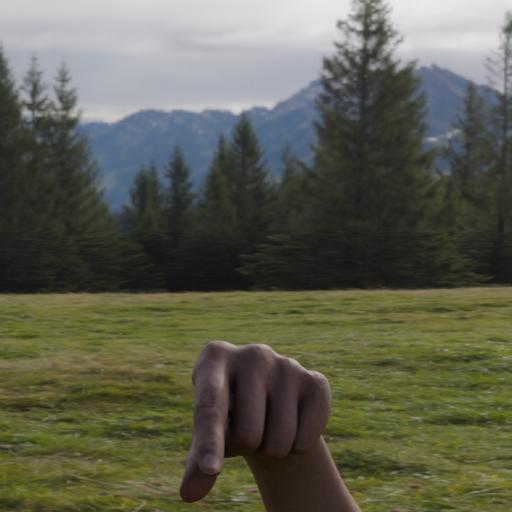Q: (159, 279, 425, 512)
